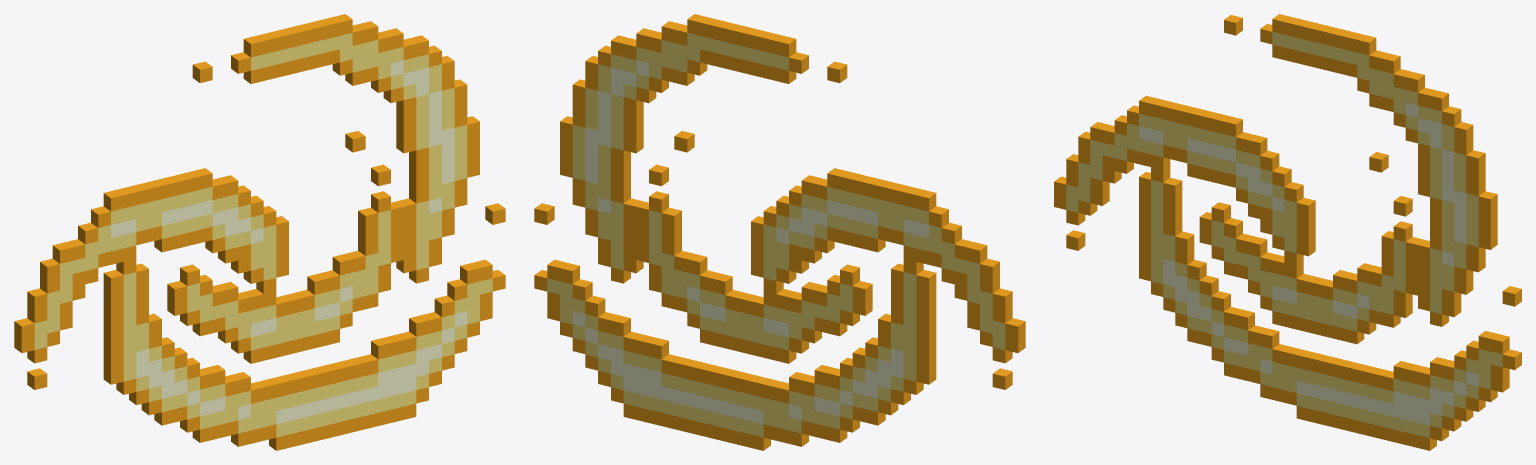
File: Fight_732_2_03_fx.obj
3 renders of one model, left to right at view 1: azimuth 30°, elevation 25°; view 2: azimuth 150°, elevation 25°; view 3: azimuth 330°, elevation 25°, orthographic. The views are drawn at different scales.
Bounding box in the file's own units: 3.8 × 3.1 × 0.1.
Materials: 1 (1 with a texture image).
